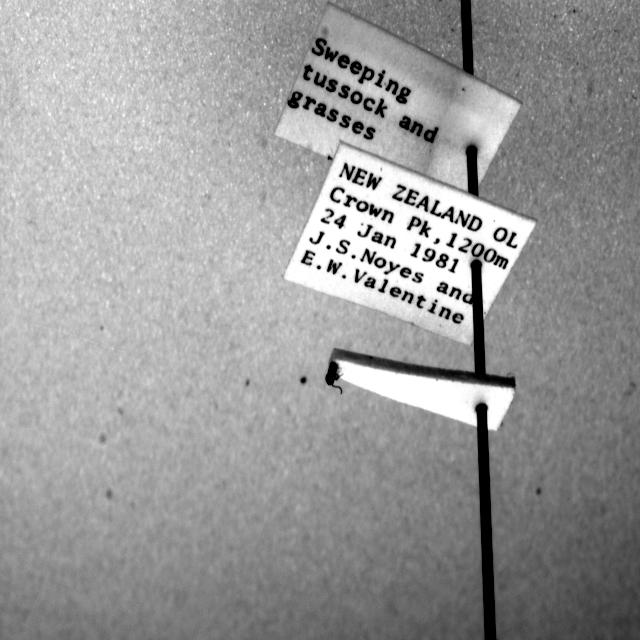typed_label: (285, 142, 535, 343), (275, 6, 520, 189)
